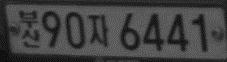0: (65, 12, 85, 48)
1: (190, 13, 209, 53)
4: (166, 13, 189, 51), (142, 13, 164, 50)
6: (119, 12, 140, 51)
9: (42, 10, 61, 48)
부산_V: (18, 10, 40, 48)
자: (87, 14, 110, 47)
